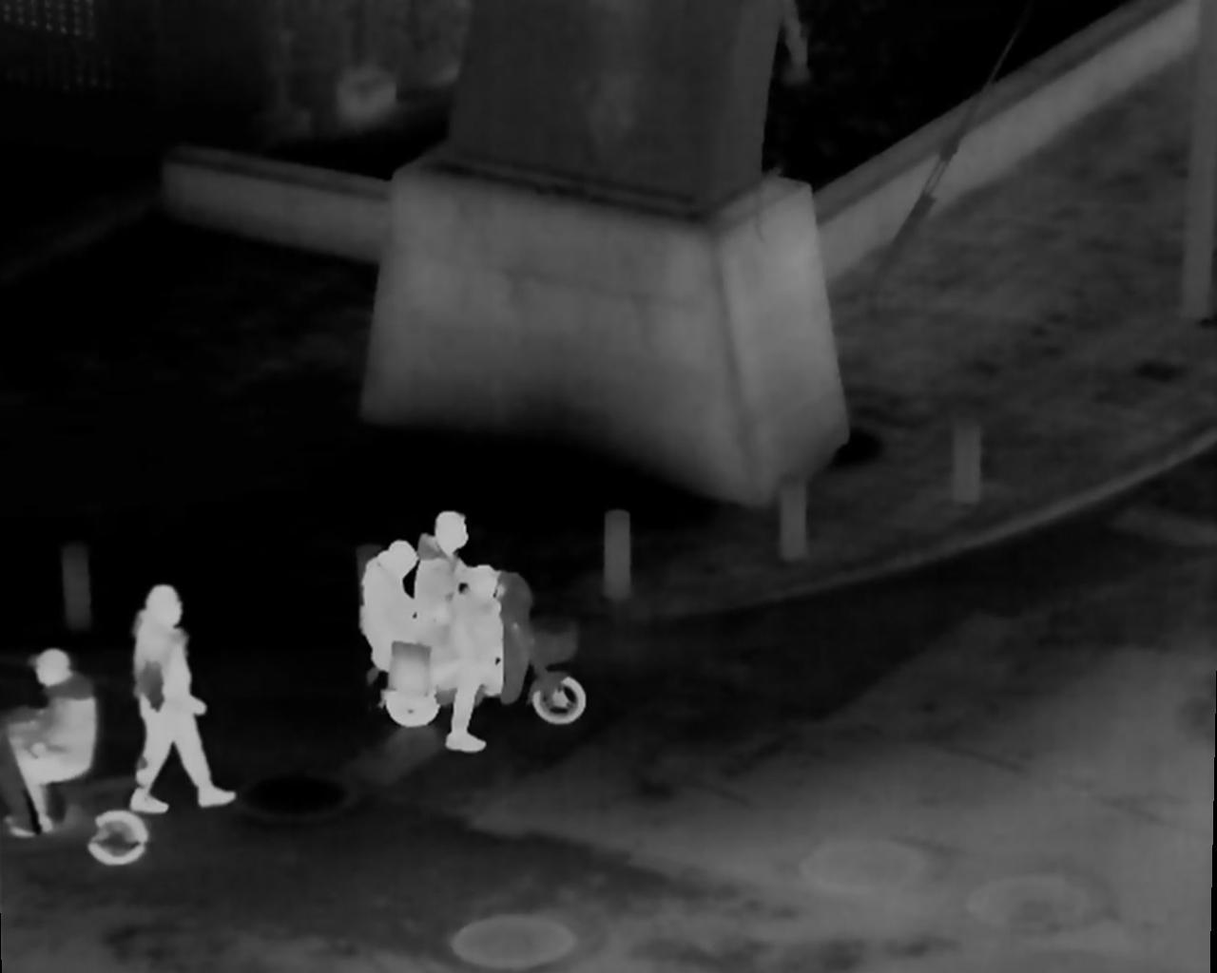person: (417, 511, 512, 768), (136, 580, 217, 808), (22, 651, 101, 838), (366, 545, 435, 724)
